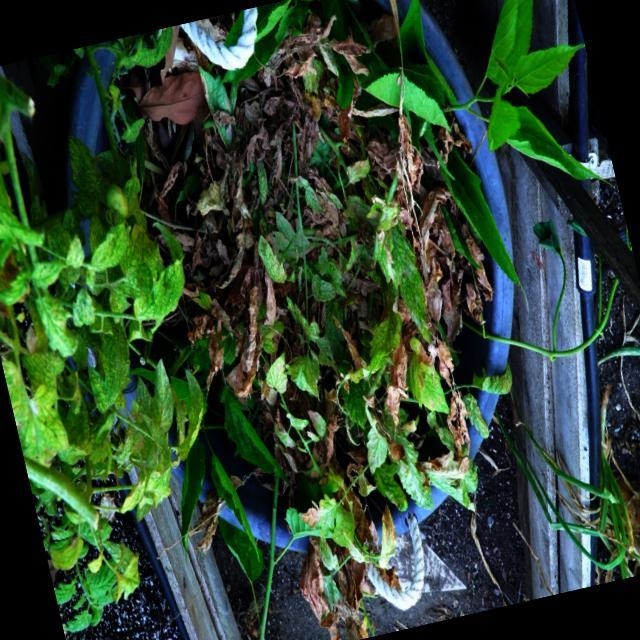Tomato spider mites leaf: (0, 347, 76, 483), (114, 216, 200, 329), (90, 220, 164, 327), (383, 224, 438, 350), (76, 314, 141, 417), (160, 365, 218, 462), (58, 128, 116, 225), (399, 329, 452, 424), (387, 428, 437, 520), (196, 58, 240, 153), (354, 308, 412, 378), (109, 26, 182, 80), (19, 346, 75, 410), (33, 290, 81, 364), (140, 356, 180, 435), (82, 218, 135, 273), (296, 490, 344, 547), (103, 548, 150, 604), (370, 460, 410, 518), (284, 350, 326, 405), (284, 288, 323, 346), (140, 407, 176, 469), (59, 397, 98, 454), (337, 377, 375, 432), (468, 359, 516, 402), (254, 230, 288, 288), (46, 532, 90, 574), (112, 472, 154, 516), (259, 350, 294, 398), (462, 391, 492, 444), (108, 417, 140, 466), (64, 283, 98, 329), (28, 255, 70, 290), (0, 268, 35, 308), (314, 524, 341, 574), (58, 232, 88, 274), (251, 158, 273, 207), (343, 156, 375, 186), (342, 528, 366, 566), (300, 181, 324, 218), (339, 235, 363, 272), (284, 406, 312, 434), (306, 406, 329, 440), (433, 424, 457, 456), (316, 276, 338, 304), (308, 272, 326, 306)
